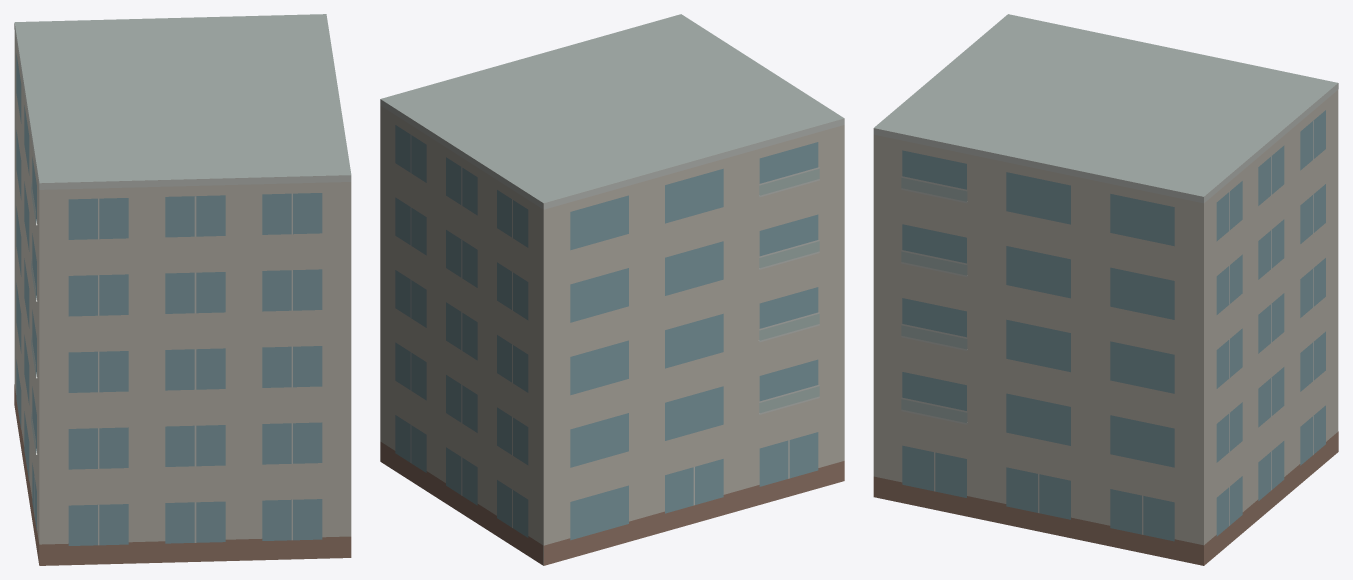
File: survey-upis-32939769.glb
3 renders of one model, left to right at view 1: azimuth 30°, elevation 25°; view 2: azimuth 150°, elevation 25°; view 3: azimuth 270°, elevation 25°, orthographic. The views are drawn at different scales.
Visible parts, largest first — view 1: survey-upis-32939769.tmp; view 2: survey-upis-32939769.tmp; view 3: survey-upis-32939769.tmp.
Boxes of the visible parts, x1,y1,x2,y2 form: survey-upis-32939769.tmp: [14, 14, 351, 565]; survey-upis-32939769.tmp: [380, 14, 844, 565]; survey-upis-32939769.tmp: [873, 14, 1338, 565].
Bounding box in the file's own units: 14.68 × 13.8 × 15.77.
